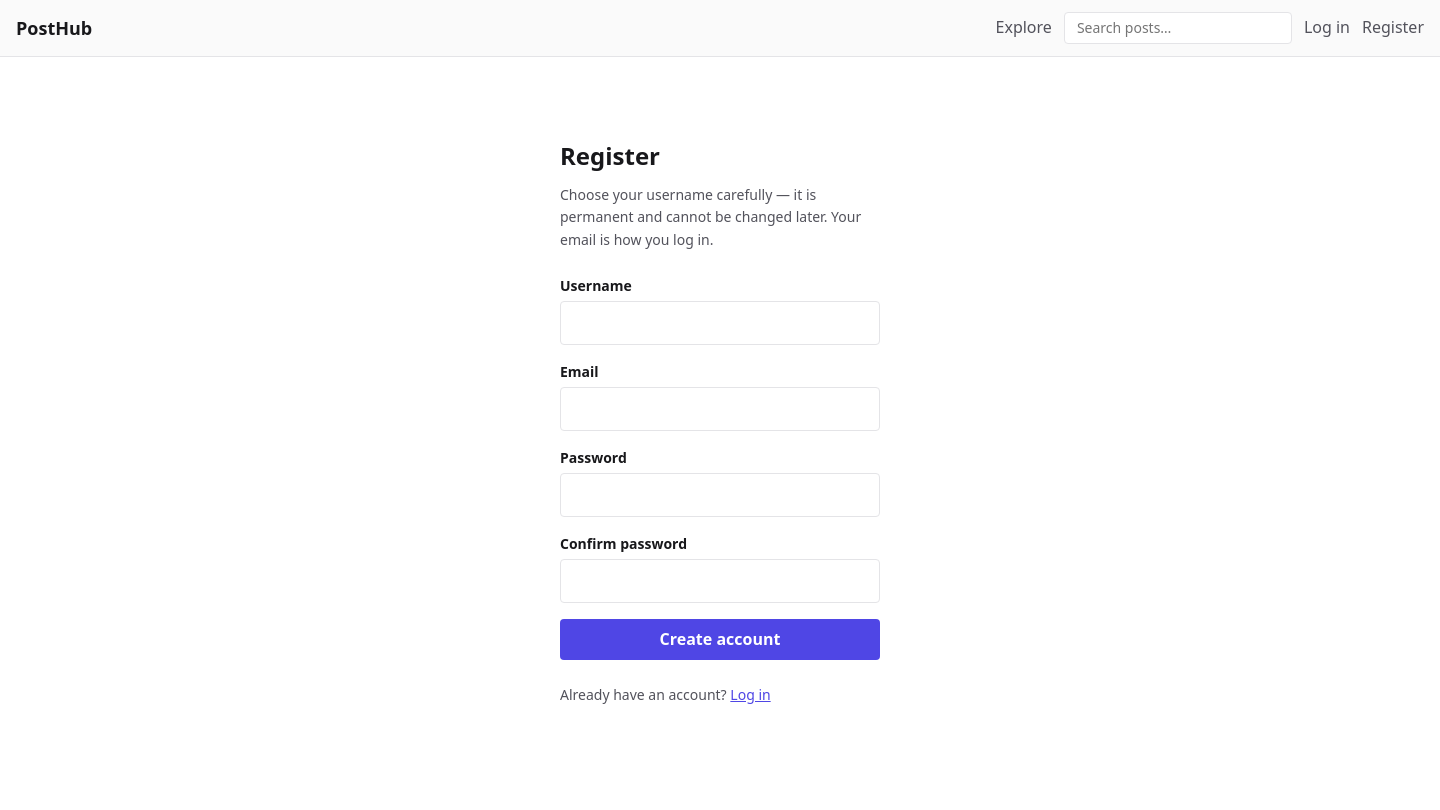
it: auth flows › registers, flips the nav to authenticated, and lands on Explore
Type "newbie" into the field labelled "Username" at (720, 323), box left=560, top=301, right=880, bottom=345
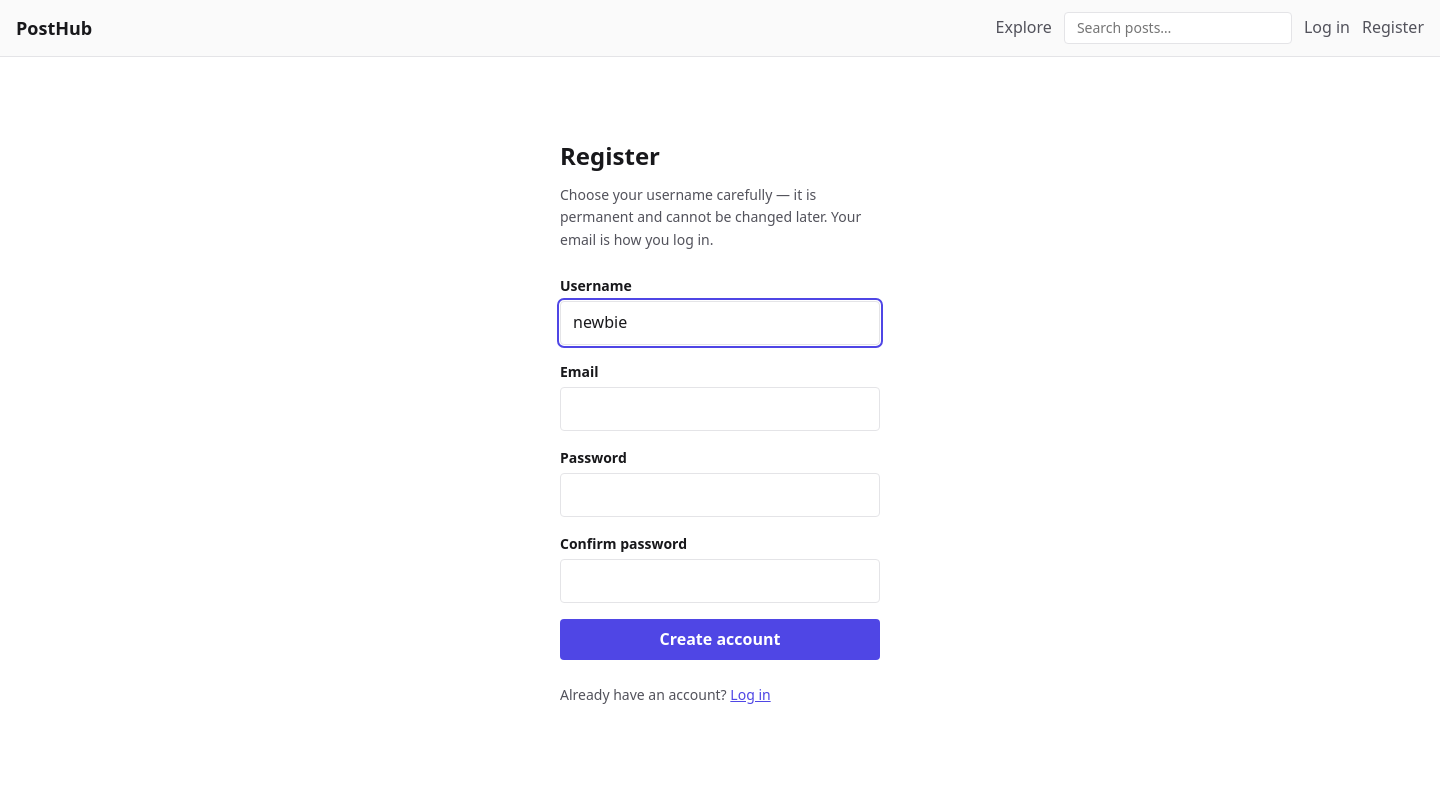
Type "newbie@example.com" into the field labelled "Email" at (720, 409), box left=560, top=387, right=880, bottom=431
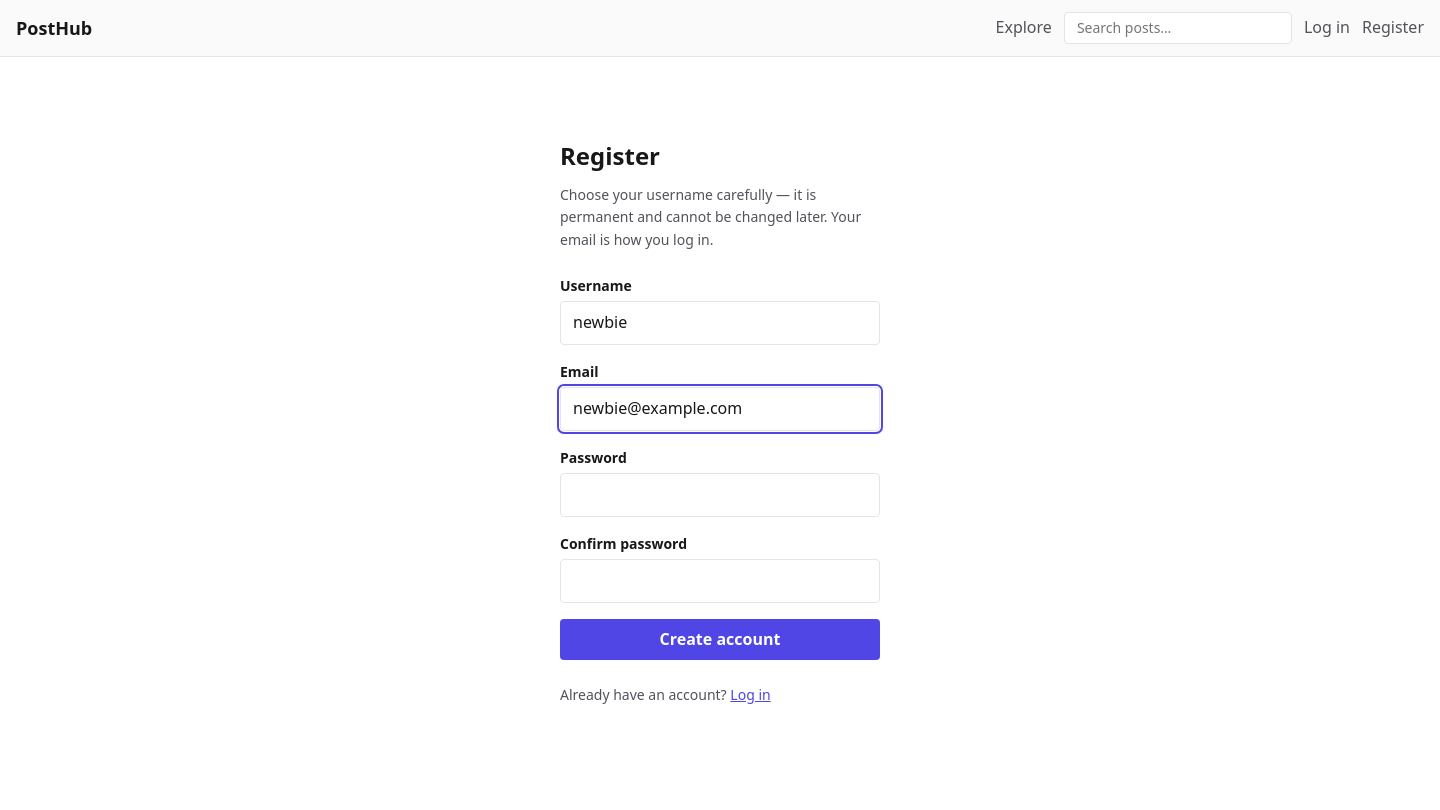
Type "password123" into the password field labelled "Password" at (720, 495), box left=560, top=473, right=880, bottom=517
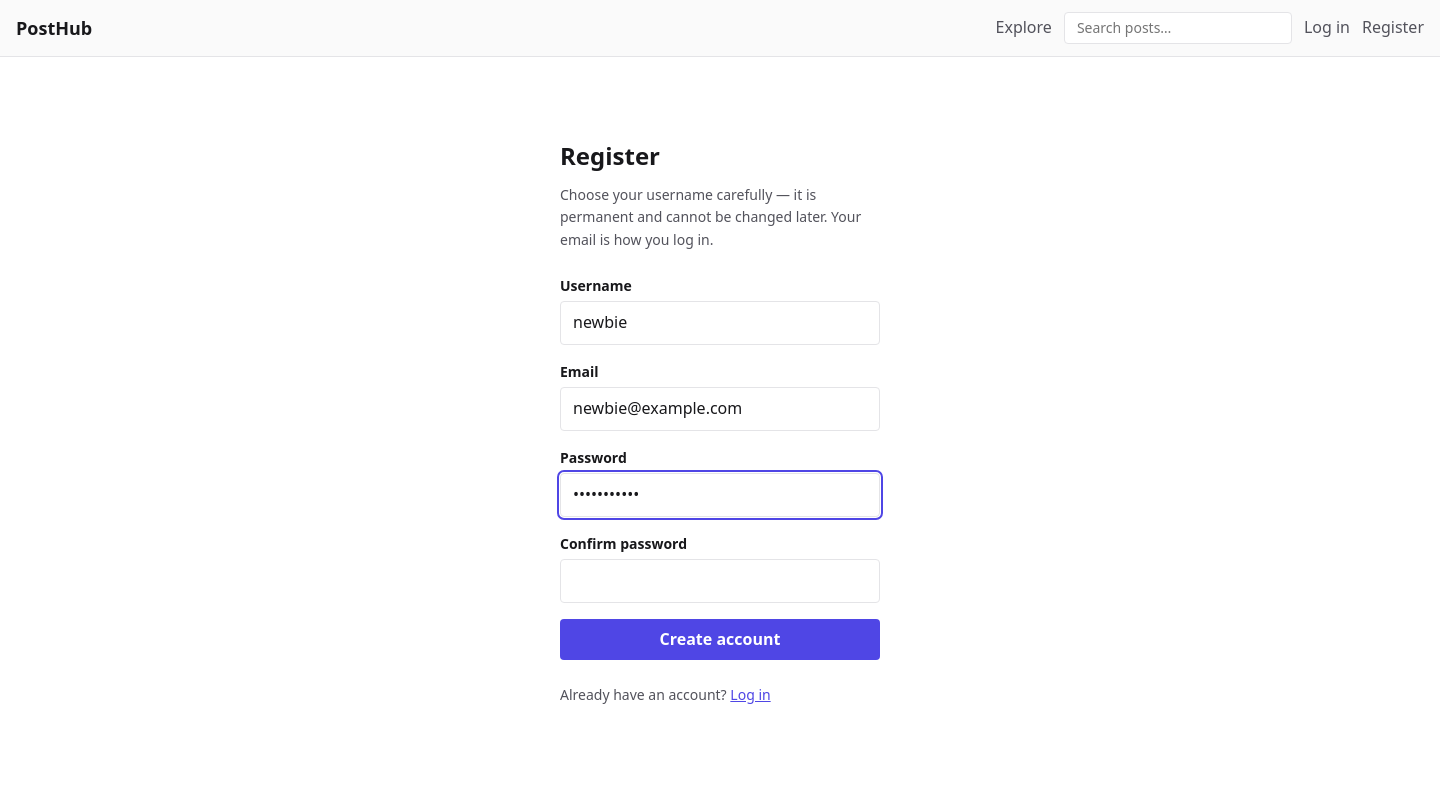
Type "password123" into the password field labelled "Confirm password" at (720, 581), box left=560, top=559, right=880, bottom=603
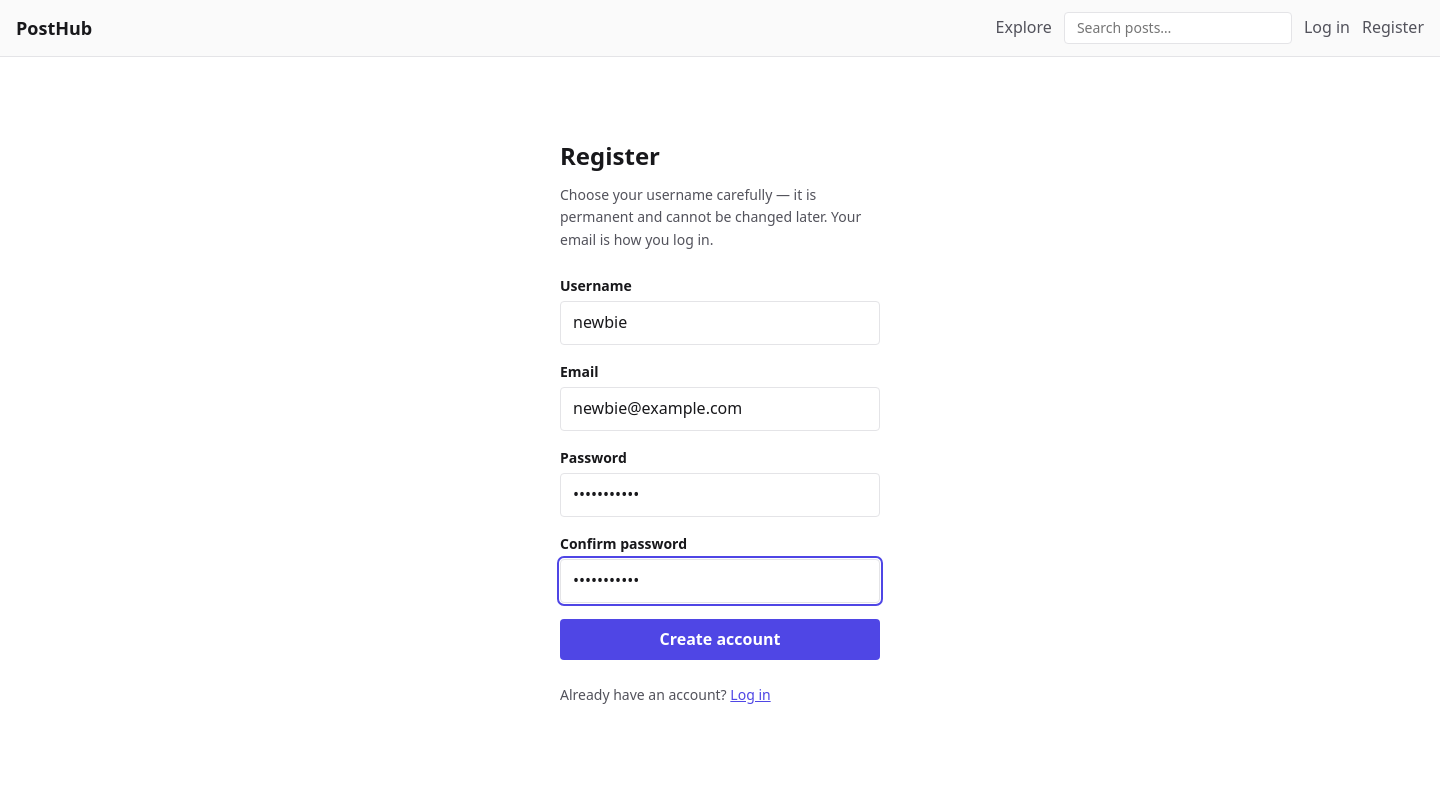
Click the button "Create account" at (720, 640), box left=560, top=619, right=880, bottom=660
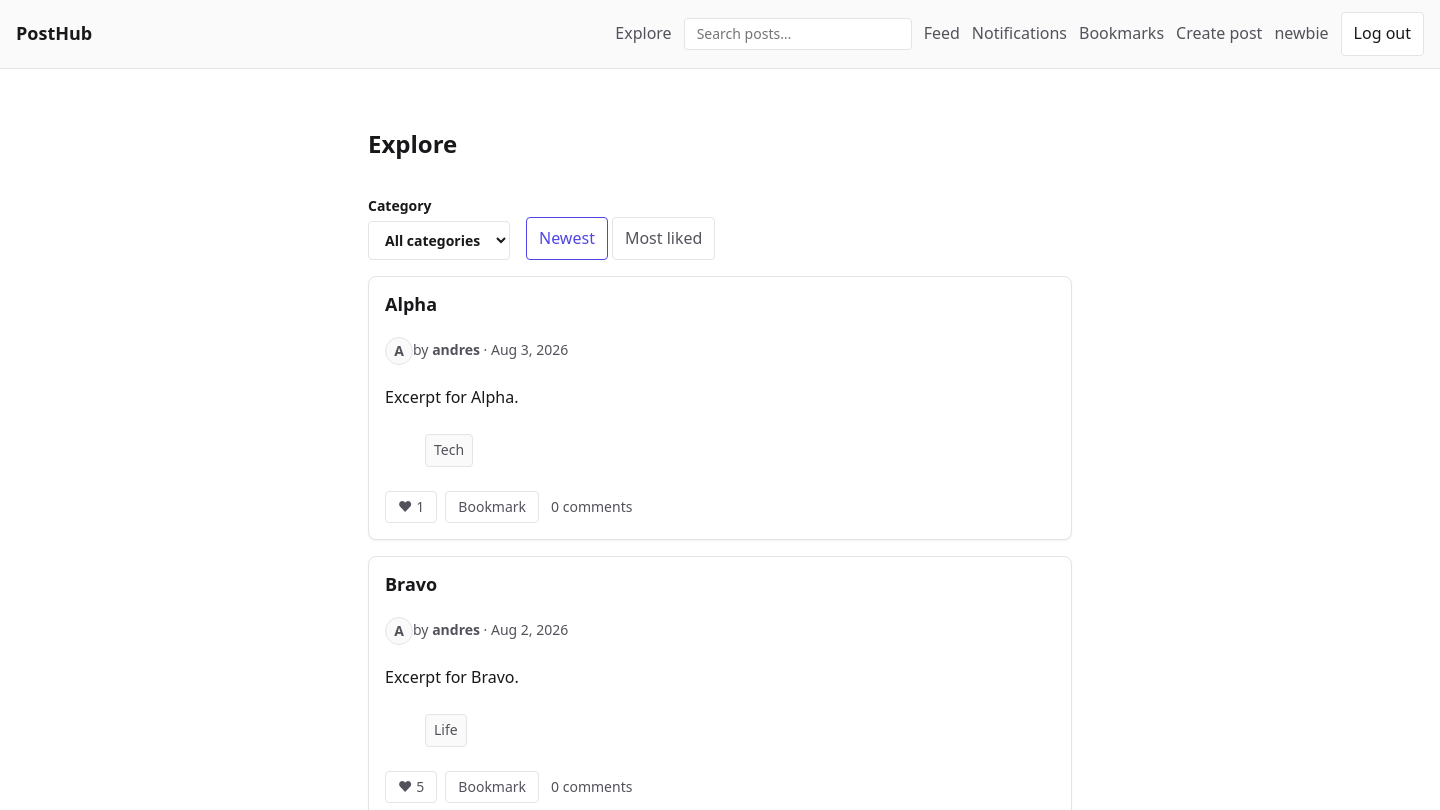
Expected: the heading "Explore" is shown, left=368, top=127, right=457, bottom=160
Expected: the link "Feed" is shown, left=924, top=21, right=960, bottom=47
Expected: the link "newbie" is shown, left=1274, top=21, right=1329, bottom=47
